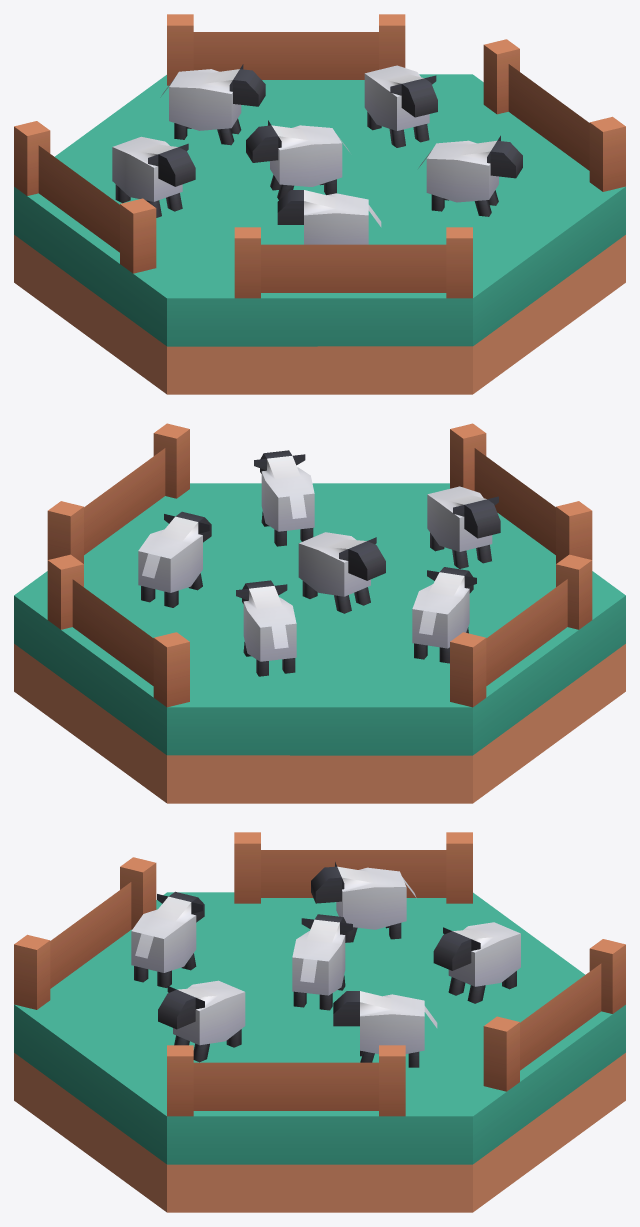
Rendered from kenney-hexagon-building-sheep.glb.
3 renders of one model, top to bottom at view 1: azimuth 30°, elevation 25°; view 2: azimuth 150°, elevation 25°; view 3: azimuth 270°, elevation 25°, orthographic.
Parts seen in each view (by area): view 1: building_sheep; view 2: building_sheep; view 3: building_sheep.
Boxes of the visible parts, x1=… form: building_sheep: x1=14, y1=14, x2=625, y2=394; building_sheep: x1=14, y1=423, x2=625, y2=803; building_sheep: x1=14, y1=832, x2=625, y2=1212.
Size of the model in its own units: 1 by 0.3316 by 1.15.
1 material, 1 textured.
